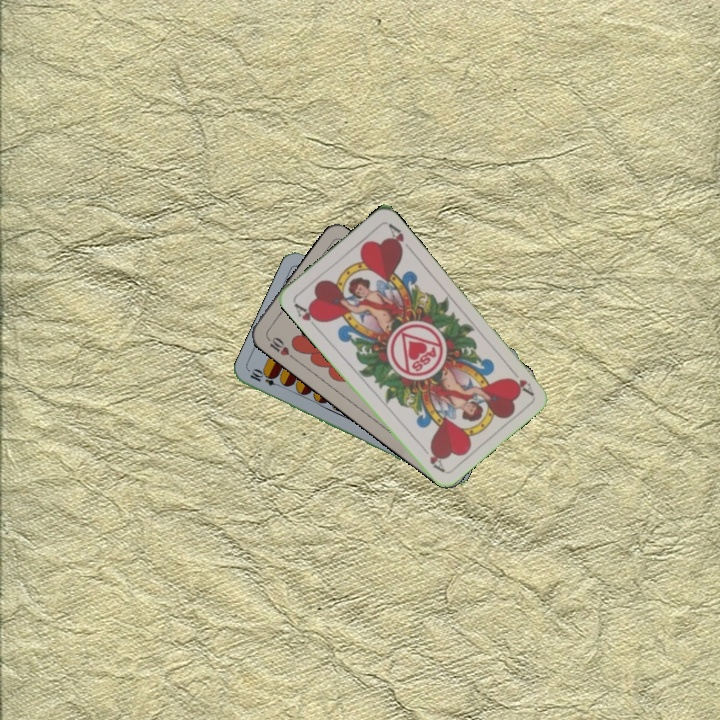E10: (246, 366, 286, 390)
H10: (262, 332, 297, 362)
HA: (290, 299, 324, 332), (505, 363, 536, 398)
